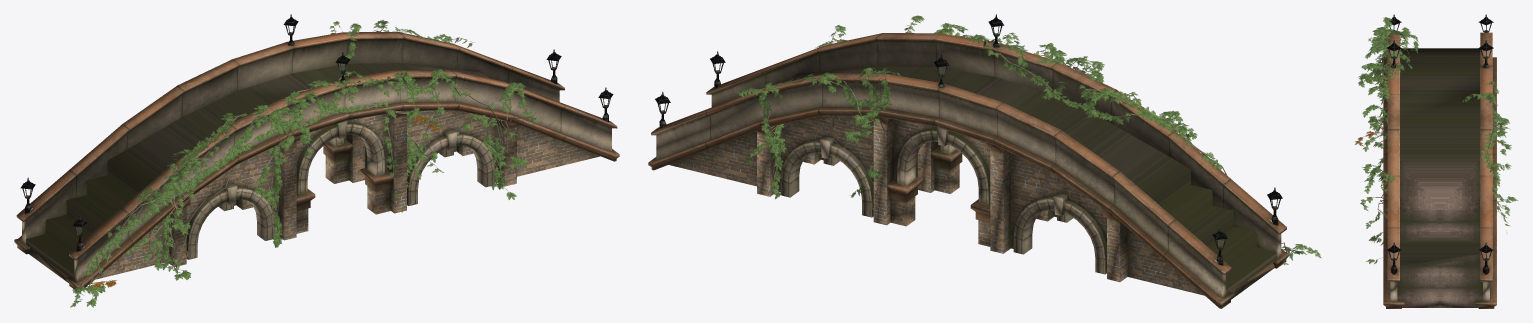
File: dreamy_bridge.glb
The picture shows the model from 3 angles, left to right: view 1: azimuth 30°, elevation 25°; view 2: azimuth 150°, elevation 25°; view 3: azimuth 270°, elevation 25°; orthographic projection. The views are drawn at different scales.
Parts seen in each view (by area): view 1: Object_6, Object_10, Object_8; view 2: Object_6, Object_10, Object_8; view 3: Object_6, Object_10, Object_8.
Part boxes in pixels (x1,y1,x2,y2): Object_6: (14,14,619,290); Object_10: (70,19,537,307); Object_8: (78,21,532,297); Object_6: (648,14,1289,308); Object_10: (735,15,1321,264); Object_8: (747,20,1308,262); Object_6: (1383,14,1496,308); Object_10: (1358,17,1518,263); Object_8: (1362,22,1507,259).
Size of the model in its own units: 289 by 87.93 by 83.45.
Materials: 5 (4 with a texture image).
